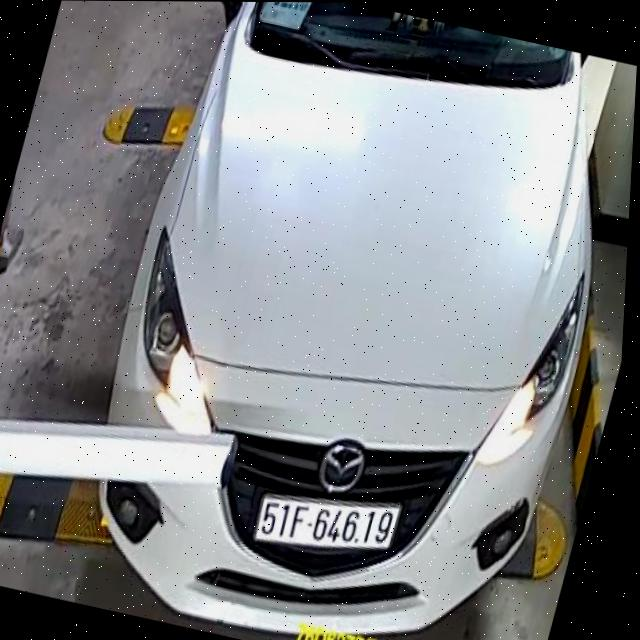car: (32, 0, 640, 640)
plate: (244, 478, 403, 566)
